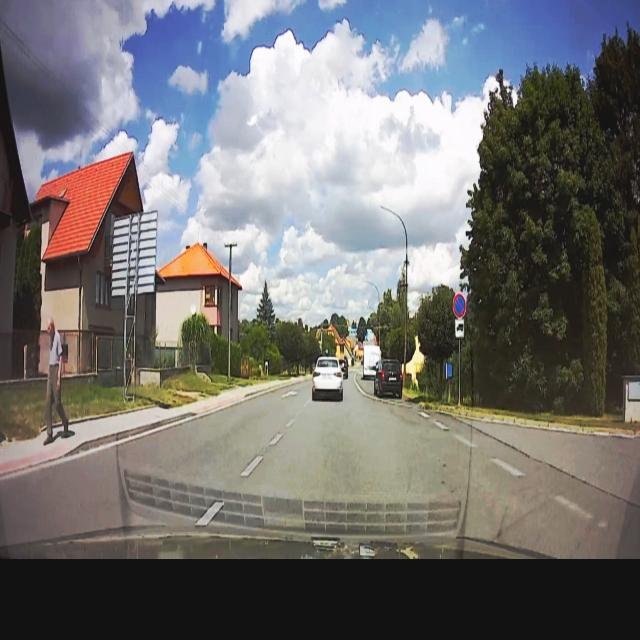Priority road: (452, 291, 467, 320)
